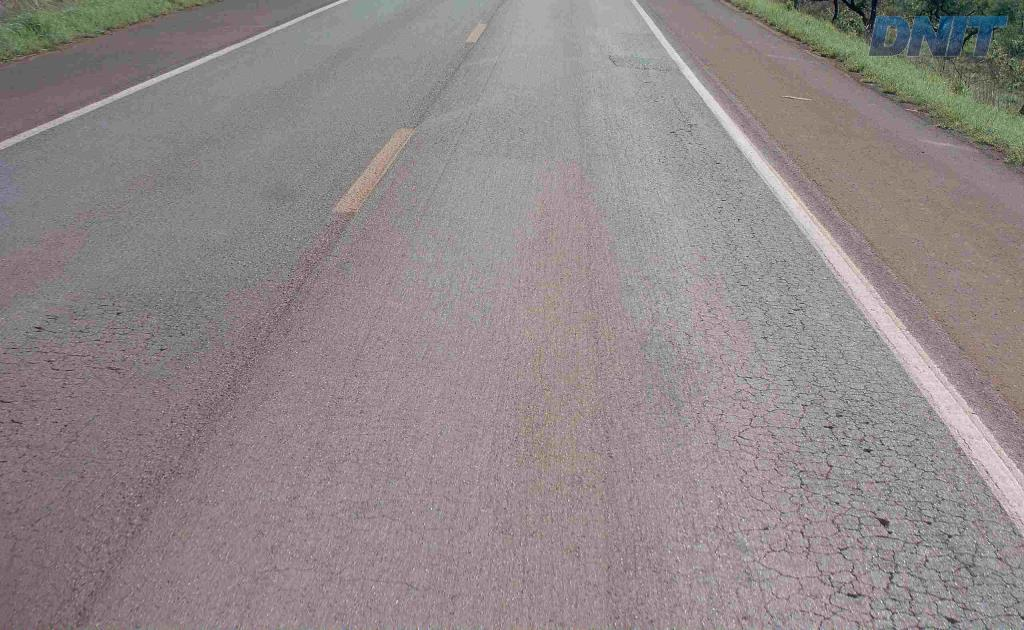crack: (834, 393, 907, 483), (935, 511, 992, 587)
